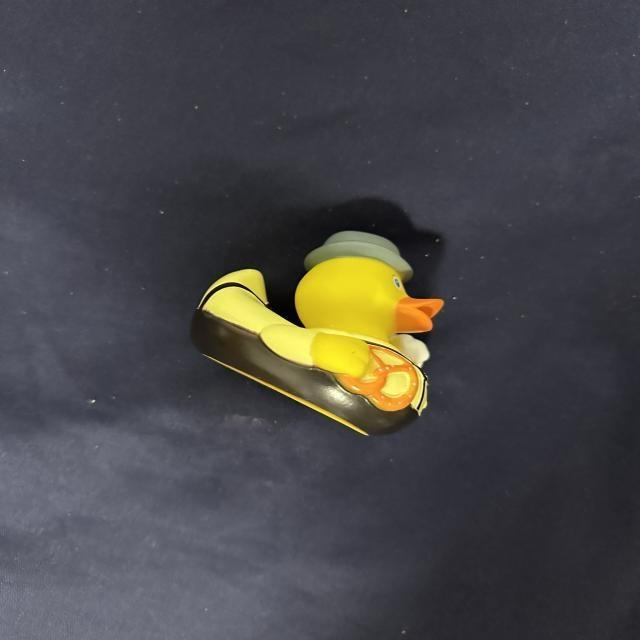rubber-duck: (191, 230, 441, 433)
